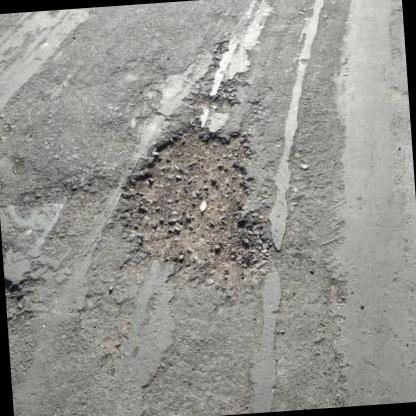pothole: (111, 117, 276, 296)
